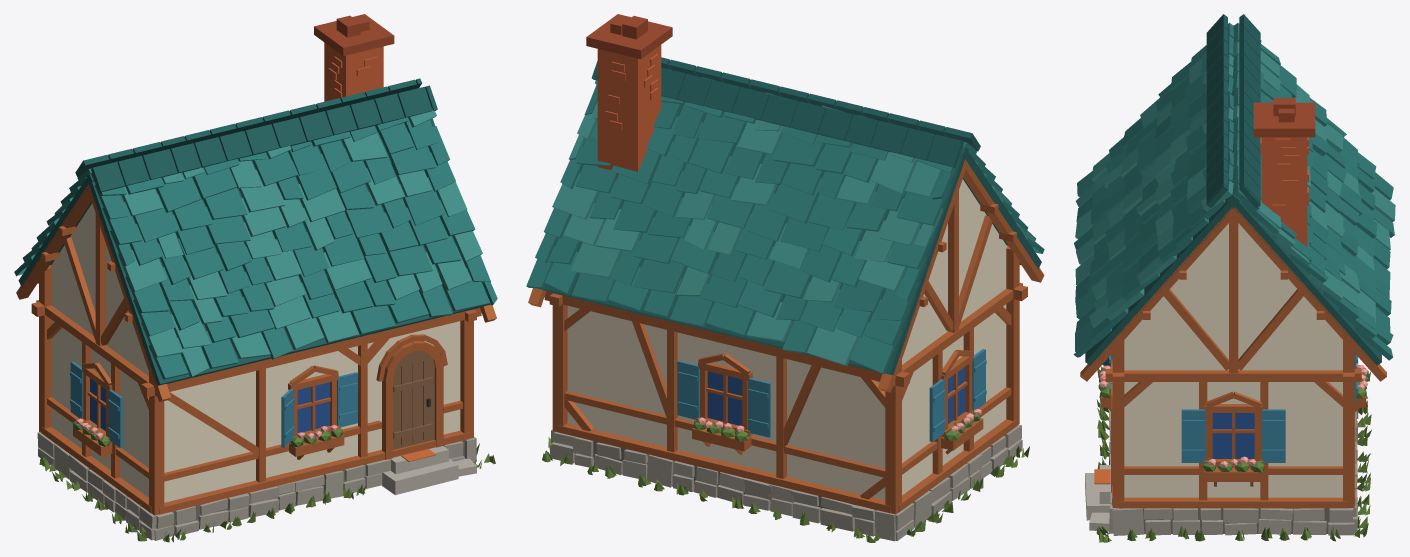
The model's file is complete.glb.
The picture shows the model from 3 angles, left to right: view 1: azimuth 30°, elevation 25°; view 2: azimuth 150°, elevation 25°; view 3: azimuth 270°, elevation 25°; orthographic projection. The views are drawn at different scales.
Visible parts, largest first — view 1: roof_shingles, plaster_walls, timber_frame, roof_shingles_light, roof_ridge, foundation_stones, roof_deck, door_leaf, shutters, door_frame, barge_boards, window_frames (+7 smaller); view 2: roof_shingles, plaster_walls, timber_frame, roof_shingles_light, foundation_stones, roof_ridge, chimney, roof_deck, shutters, window_frames, barge_boards, chimney_cap (+4 smaller); view 3: plaster_walls, roof_shingles, timber_frame, roof_shingles_light, roof_ridge, foundation_stones, roof_deck, chimney, barge_boards, shutters, grass_tufts, chimney_cap (+7 smaller).
Boxes of the visible parts, bbox=[...] form: roof_shingles: bbox=[14, 87, 497, 379]; plaster_walls: bbox=[50, 203, 460, 502]; timber_frame: bbox=[31, 214, 481, 515]; roof_shingles_light: bbox=[54, 109, 482, 377]; roof_ridge: bbox=[75, 78, 437, 192]; foundation_stones: bbox=[37, 431, 476, 540]; roof_deck: bbox=[18, 118, 490, 385]; door_leaf: bbox=[393, 350, 434, 449]; shutters: bbox=[70, 361, 357, 448]; door_frame: bbox=[376, 334, 447, 459]; barge_boards: bbox=[16, 184, 496, 401]; window_frames: bbox=[80, 362, 340, 443]; roof_shingles: bbox=[526, 77, 1044, 374]; plaster_walls: bbox=[567, 179, 1007, 500]; timber_frame: bbox=[544, 190, 1027, 514]; roof_shingles_light: bbox=[552, 92, 1036, 366]; foundation_stones: bbox=[549, 424, 1022, 541]; roof_ridge: bbox=[591, 57, 980, 167]; chimney: bbox=[597, 45, 661, 180]; roof_deck: bbox=[537, 104, 1041, 375]; shutters: bbox=[677, 349, 986, 441]; window_frames: bbox=[696, 350, 973, 437]; barge_boards: bbox=[528, 159, 1044, 392]; chimney_cap: bbox=[586, 14, 672, 59]; plaster_walls: bbox=[1124, 223, 1342, 497]; roof_shingles: bbox=[1073, 23, 1394, 360]; timber_frame: bbox=[1105, 218, 1361, 508]; roof_shingles_light: bbox=[1075, 41, 1395, 327]; roof_ridge: bbox=[1206, 14, 1260, 207]; foundation_stones: bbox=[1109, 357, 1358, 535]; roof_deck: bbox=[1085, 25, 1381, 365]; chimney: bbox=[1260, 137, 1308, 246]; barge_boards: bbox=[1080, 207, 1386, 381]; shutters: bbox=[1102, 353, 1357, 462]; grass_tufts: bbox=[1096, 366, 1371, 542]; chimney_cap: bbox=[1253, 98, 1315, 137].
Bounding box in the file's own units: 7.94 × 8.48 × 6.02.
